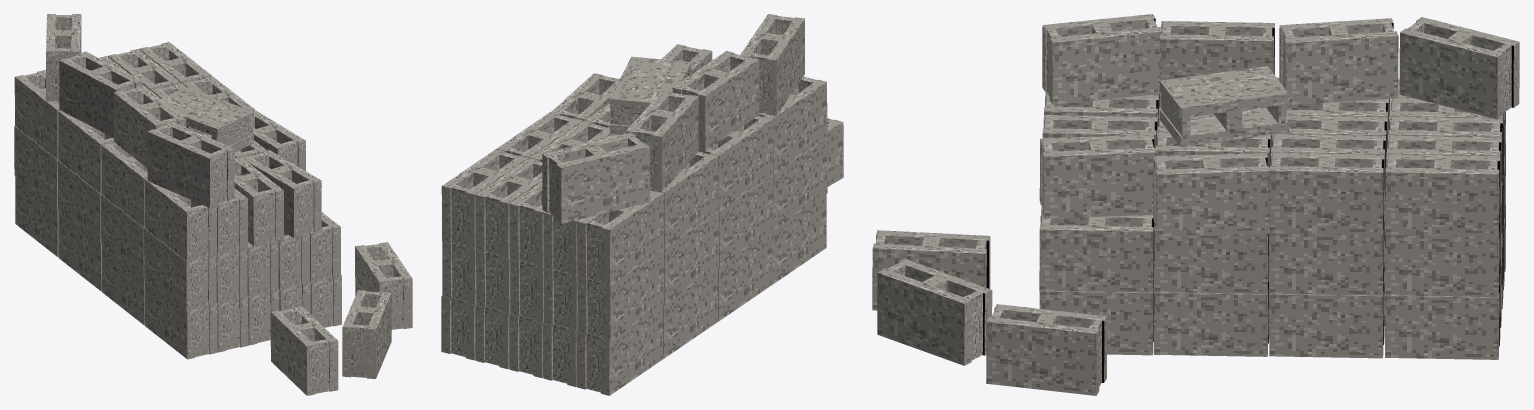
The model's file is Cinder Blocks.glb.
3 views of the same model, side by side, from view 1: azimuth 30°, elevation 25°; view 2: azimuth 150°, elevation 25°; view 3: azimuth 270°, elevation 25° (orthographic). The views are drawn at different scales.
Visible parts, largest first — view 1: Cube.084, Cube.090, Cube.086, Cube.068, Cube.064, Cube.048, Cube.028, Cube.065, Cube.088, Cube.085, Cube.089, Cube.066 (+23 smaller); view 2: Cube.087, Cube.083, Cube.085, Cube.063, Cube.043, Cube.086, Cube.084, Cube.073, Cube.068, Cube.079, Cube.078, Cube.080 (+23 smaller); view 3: Cube.089, Cube.087, Cube.086, Cube.084, Cube.069, Cube.074, Cube.079, Cube.065, Cube.064, Cube.044, Cube.088, Cube.034 (+17 smaller).
Boxes of the visible parts, x1,y1,x2,y2 form: Cube.084: [147, 122, 234, 207]; Cube.090: [270, 306, 338, 395]; Cube.086: [59, 51, 142, 137]; Cube.068: [144, 178, 217, 261]; Cube.064: [342, 290, 391, 378]; Cube.048: [144, 228, 216, 311]; Cube.028: [145, 279, 217, 359]; Cube.065: [241, 150, 321, 238]; Cube.088: [161, 87, 253, 151]; Cube.085: [113, 85, 186, 167]; Cube.089: [355, 242, 412, 329]; Cube.066: [234, 157, 283, 246]; Cube.087: [542, 132, 650, 223]; Cube.083: [577, 190, 663, 285]; Cube.085: [672, 50, 759, 151]; Cube.063: [577, 249, 664, 341]; Cube.043: [576, 305, 663, 395]; Cube.086: [626, 90, 698, 192]; Cube.084: [740, 14, 804, 115]; Cube.073: [698, 115, 772, 210]; Cube.068: [758, 76, 827, 174]; Cube.079: [441, 149, 528, 249]; Cube.078: [650, 151, 718, 248]; Cube.080: [475, 158, 542, 258]; Cube.089: [986, 304, 1107, 395]; Cube.087: [1399, 17, 1519, 119]; Cube.086: [1279, 18, 1398, 105]; Cube.084: [1042, 14, 1162, 104]; Cube.069: [1153, 153, 1269, 236]; Cube.074: [1269, 152, 1384, 234]; Cube.079: [1385, 154, 1500, 236]; Cube.065: [1039, 135, 1157, 218]; Cube.064: [877, 258, 992, 365]; Cube.044: [1039, 211, 1154, 292]; Cube.088: [1159, 66, 1288, 146]; Cube.034: [1269, 278, 1384, 358].
Bounding box in the file's own units: 2.03 × 1.73 × 4.08.
1 material, 1 textured.
